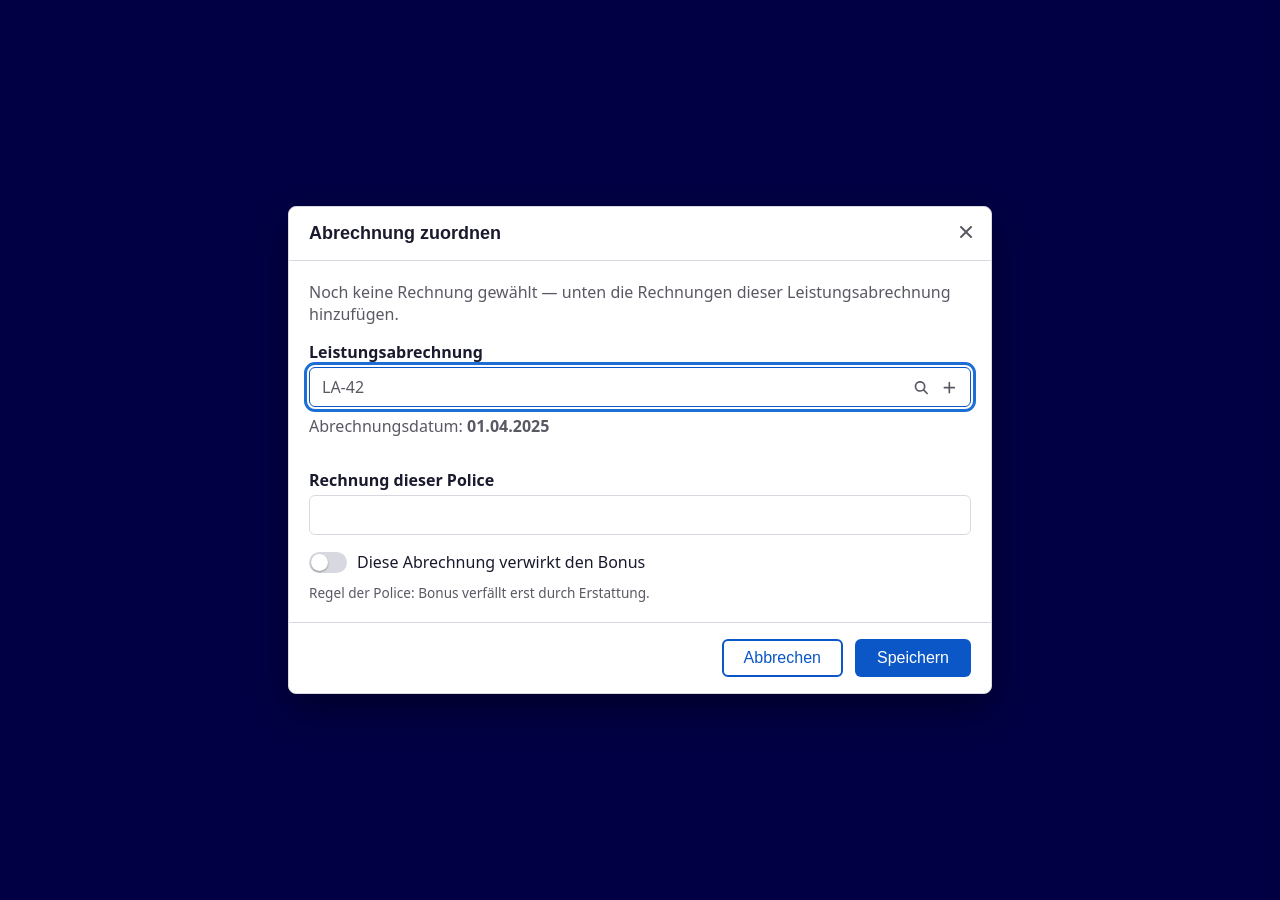
it: BillingDialog with several invoices › starts without a card when it is opened for a policy
The image size is (1280, 900).
Click the button "Speichern" at (913, 658), box [855,639,971,677]
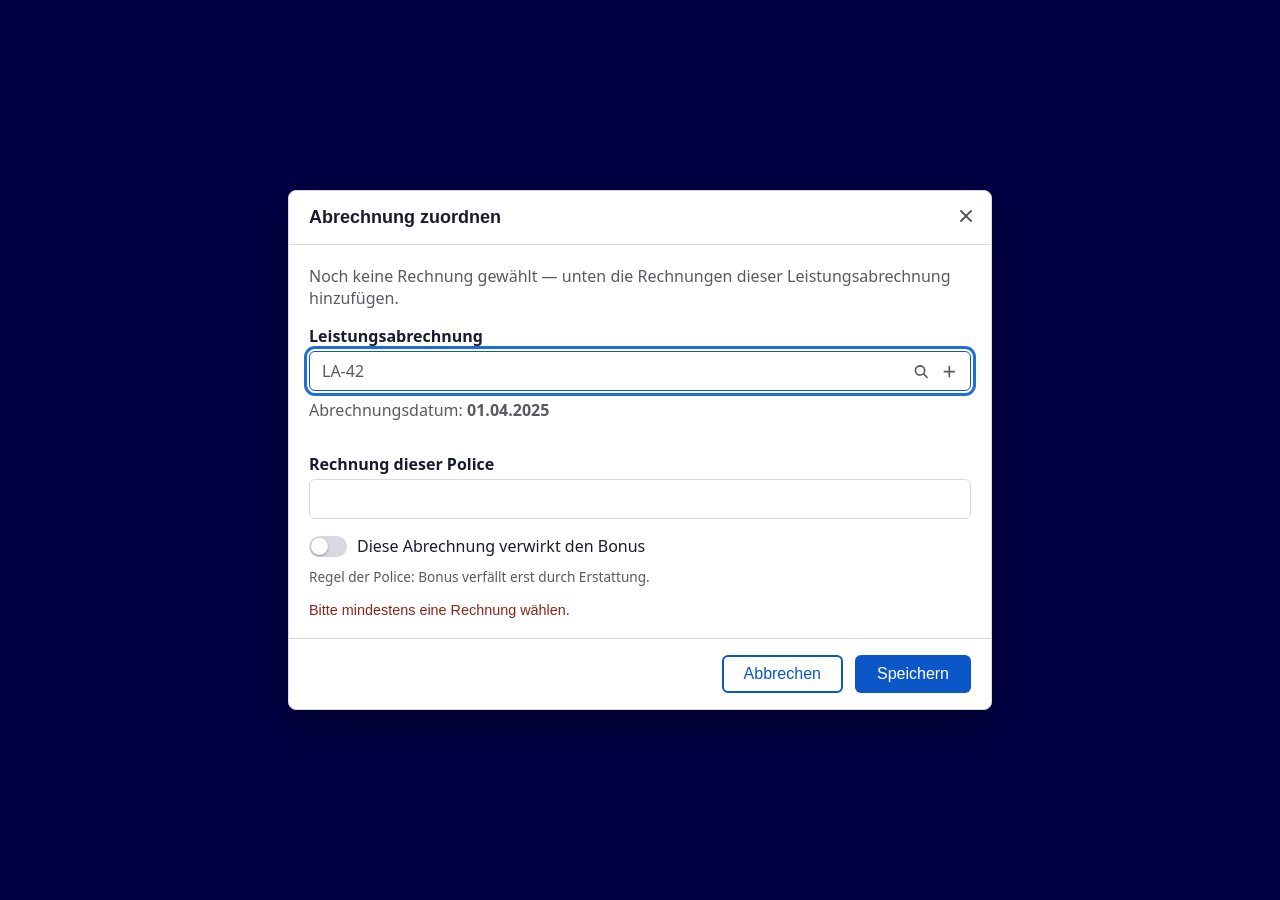
expect the text "Bitte mindestens eine Rechnung wählen." is shown: met, box [309,602,570,618]
